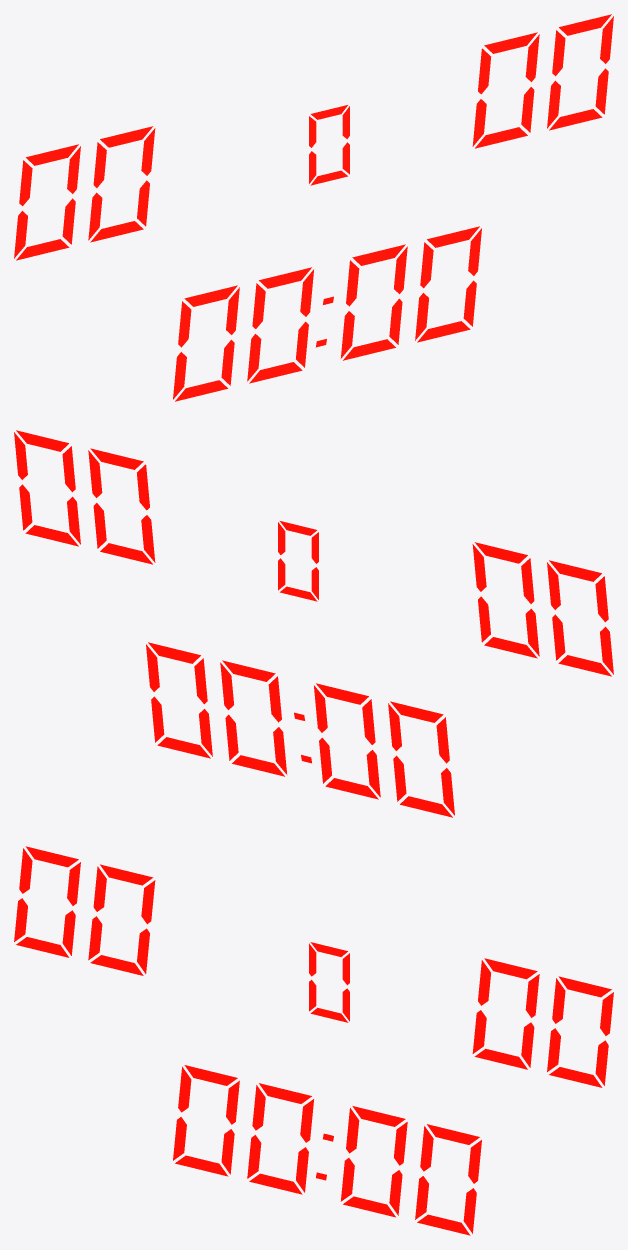
File: Score.fbx
The picture shows the model from 3 angles, top to bottom: view 1: azimuth 30°, elevation 25°; view 2: azimuth 150°, elevation 25°; view 3: azimuth 330°, elevation 25°; orthographic projection.
Parts seen in each view (by area): view 1: TABLERO_Cube.001; view 2: TABLERO_Cube.001; view 3: TABLERO_Cube.001.
Part boxes in pixels (x1,y1,x2,y2): TABLERO_Cube.001: [14, 14, 613, 401]; TABLERO_Cube.001: [14, 430, 613, 817]; TABLERO_Cube.001: [14, 846, 613, 1235].
Size of the model in its own units: 407 by 0.0108 by 182.
